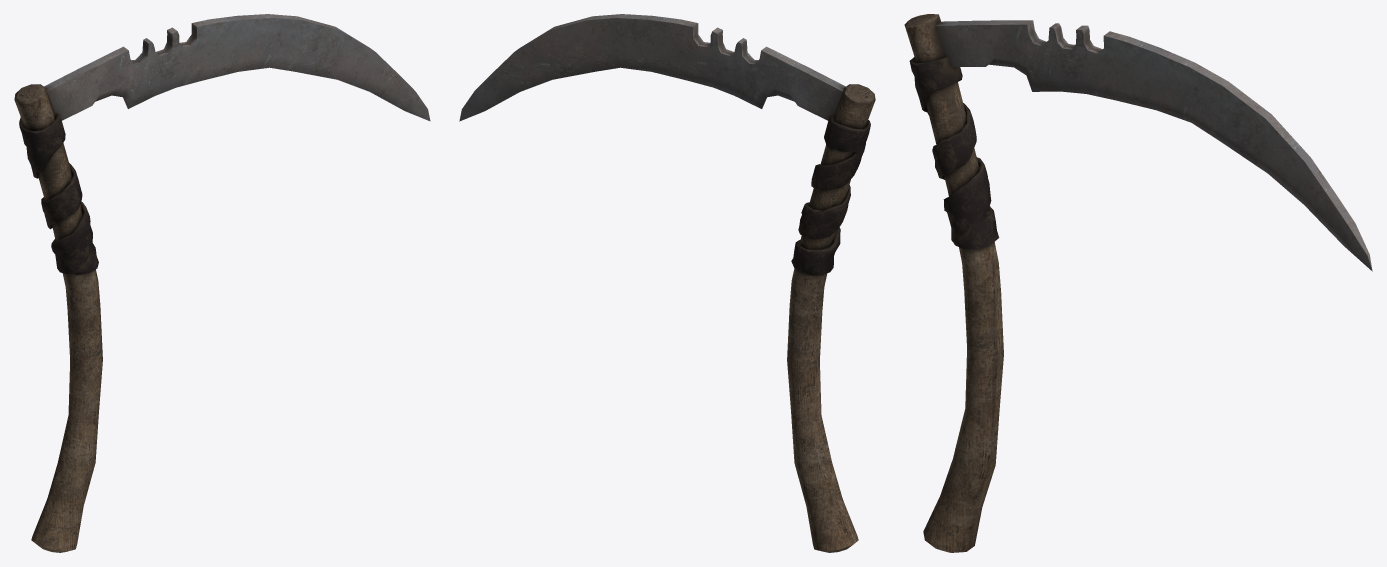
Rendered from Schyth 1.fbx.
The picture shows the model from 3 angles, left to right: view 1: azimuth 30°, elevation 25°; view 2: azimuth 150°, elevation 25°; view 3: azimuth 330°, elevation 25°; orthographic projection. The views are drawn at different scales.
Visible parts, largest first — view 1: Schyth_1; view 2: Schyth_1; view 3: Schyth_1.
Boxes of the visible parts, <box> form: Schyth_1: <box>14,14,430,552</box>; Schyth_1: <box>459,14,875,552</box>; Schyth_1: <box>904,14,1372,552</box>.
Size of the model in its own units: 80.6 by 91.44 by 8.06.
Materials: 1 (1 with a texture image).
